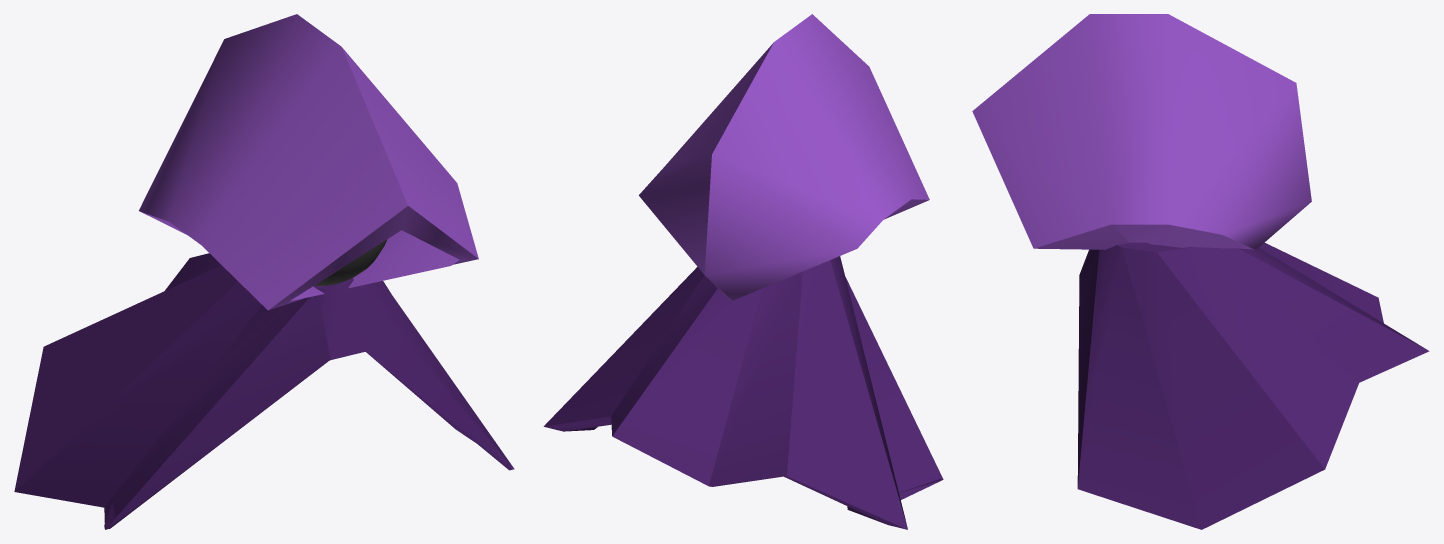
File: player_cloak_mof_0.obj
The picture shows the model from 3 angles, left to right: view 1: azimuth 30°, elevation 25°; view 2: azimuth 150°, elevation 25°; view 3: azimuth 270°, elevation 25°; orthographic projection. The views are drawn at different scales.
Bounding box in the file's own units: 3.65 × 4 × 3.87.
Materials: 1 (1 with a texture image).
